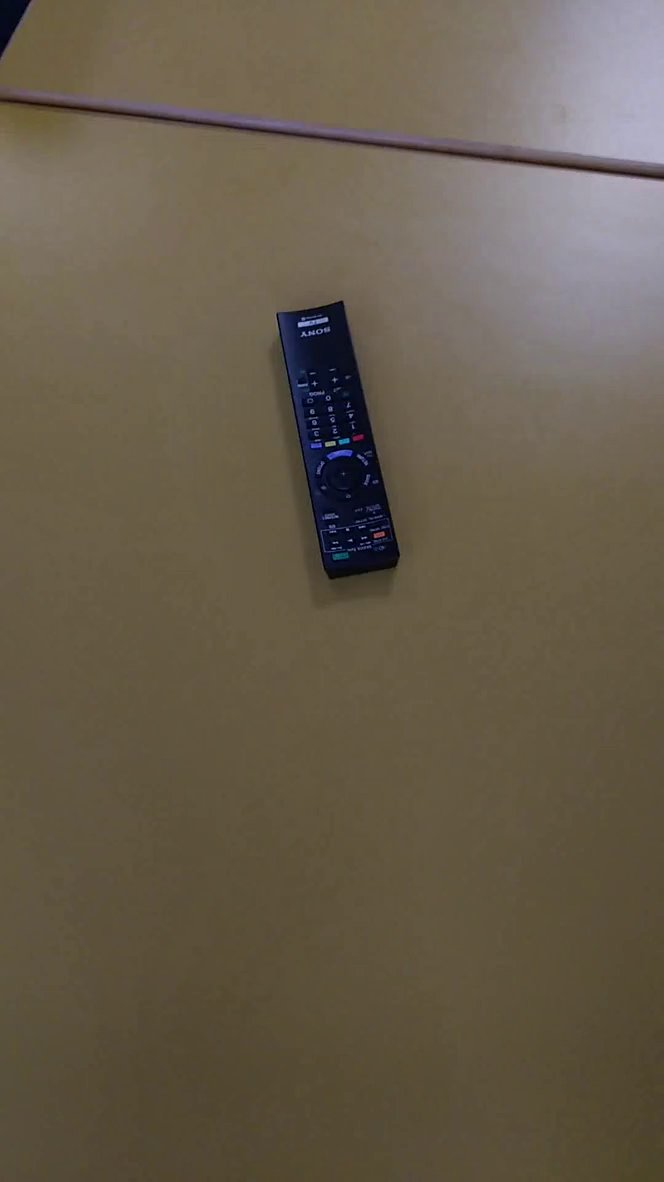remote: (252, 292, 415, 595)
